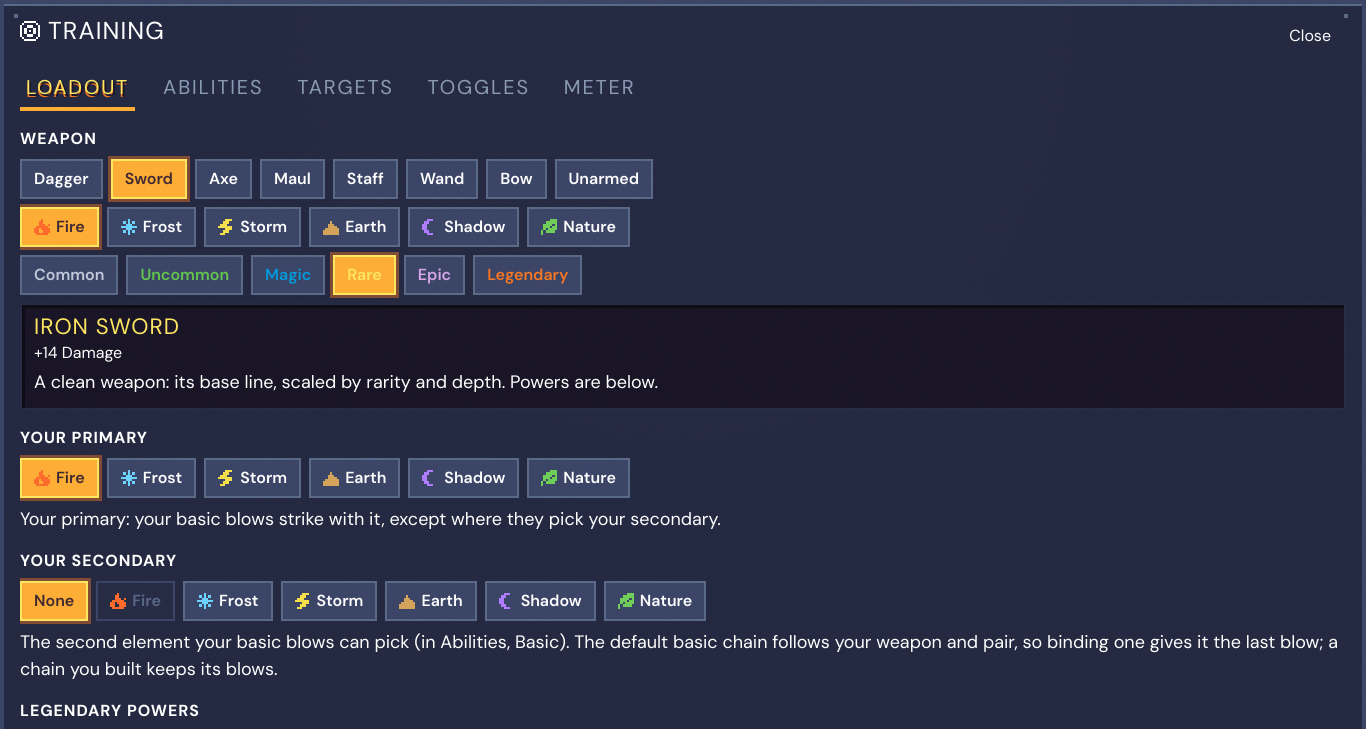
Test: TrainingPanel › a weapon chip sets the sandbox weapon
The width and height of the screenshot is (1366, 729).
Click the button with test id "weapon-base-staff" at coordinates (365, 179), box x1=333 y1=159 x2=398 y2=199
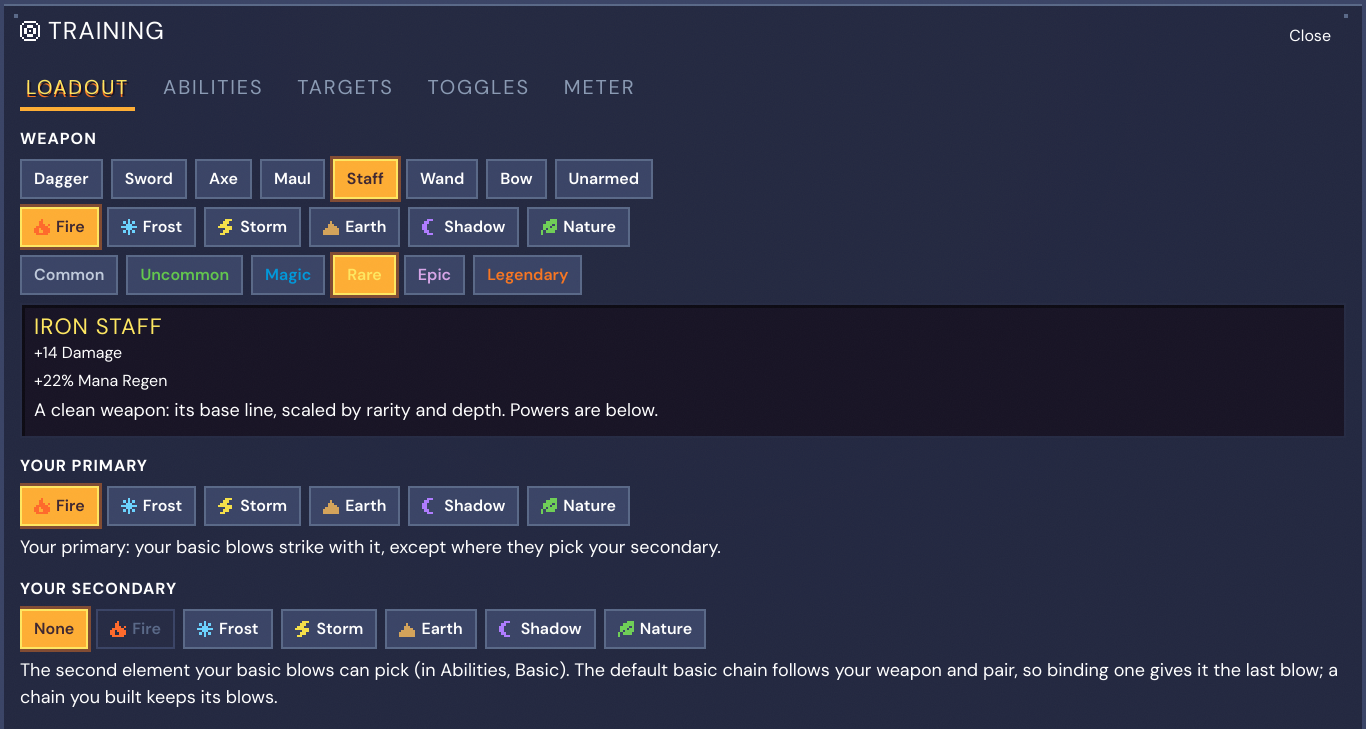
Result: the text with test id "weapon-name" shows "Staff" at x1=34 y1=312 x2=163 y2=341
